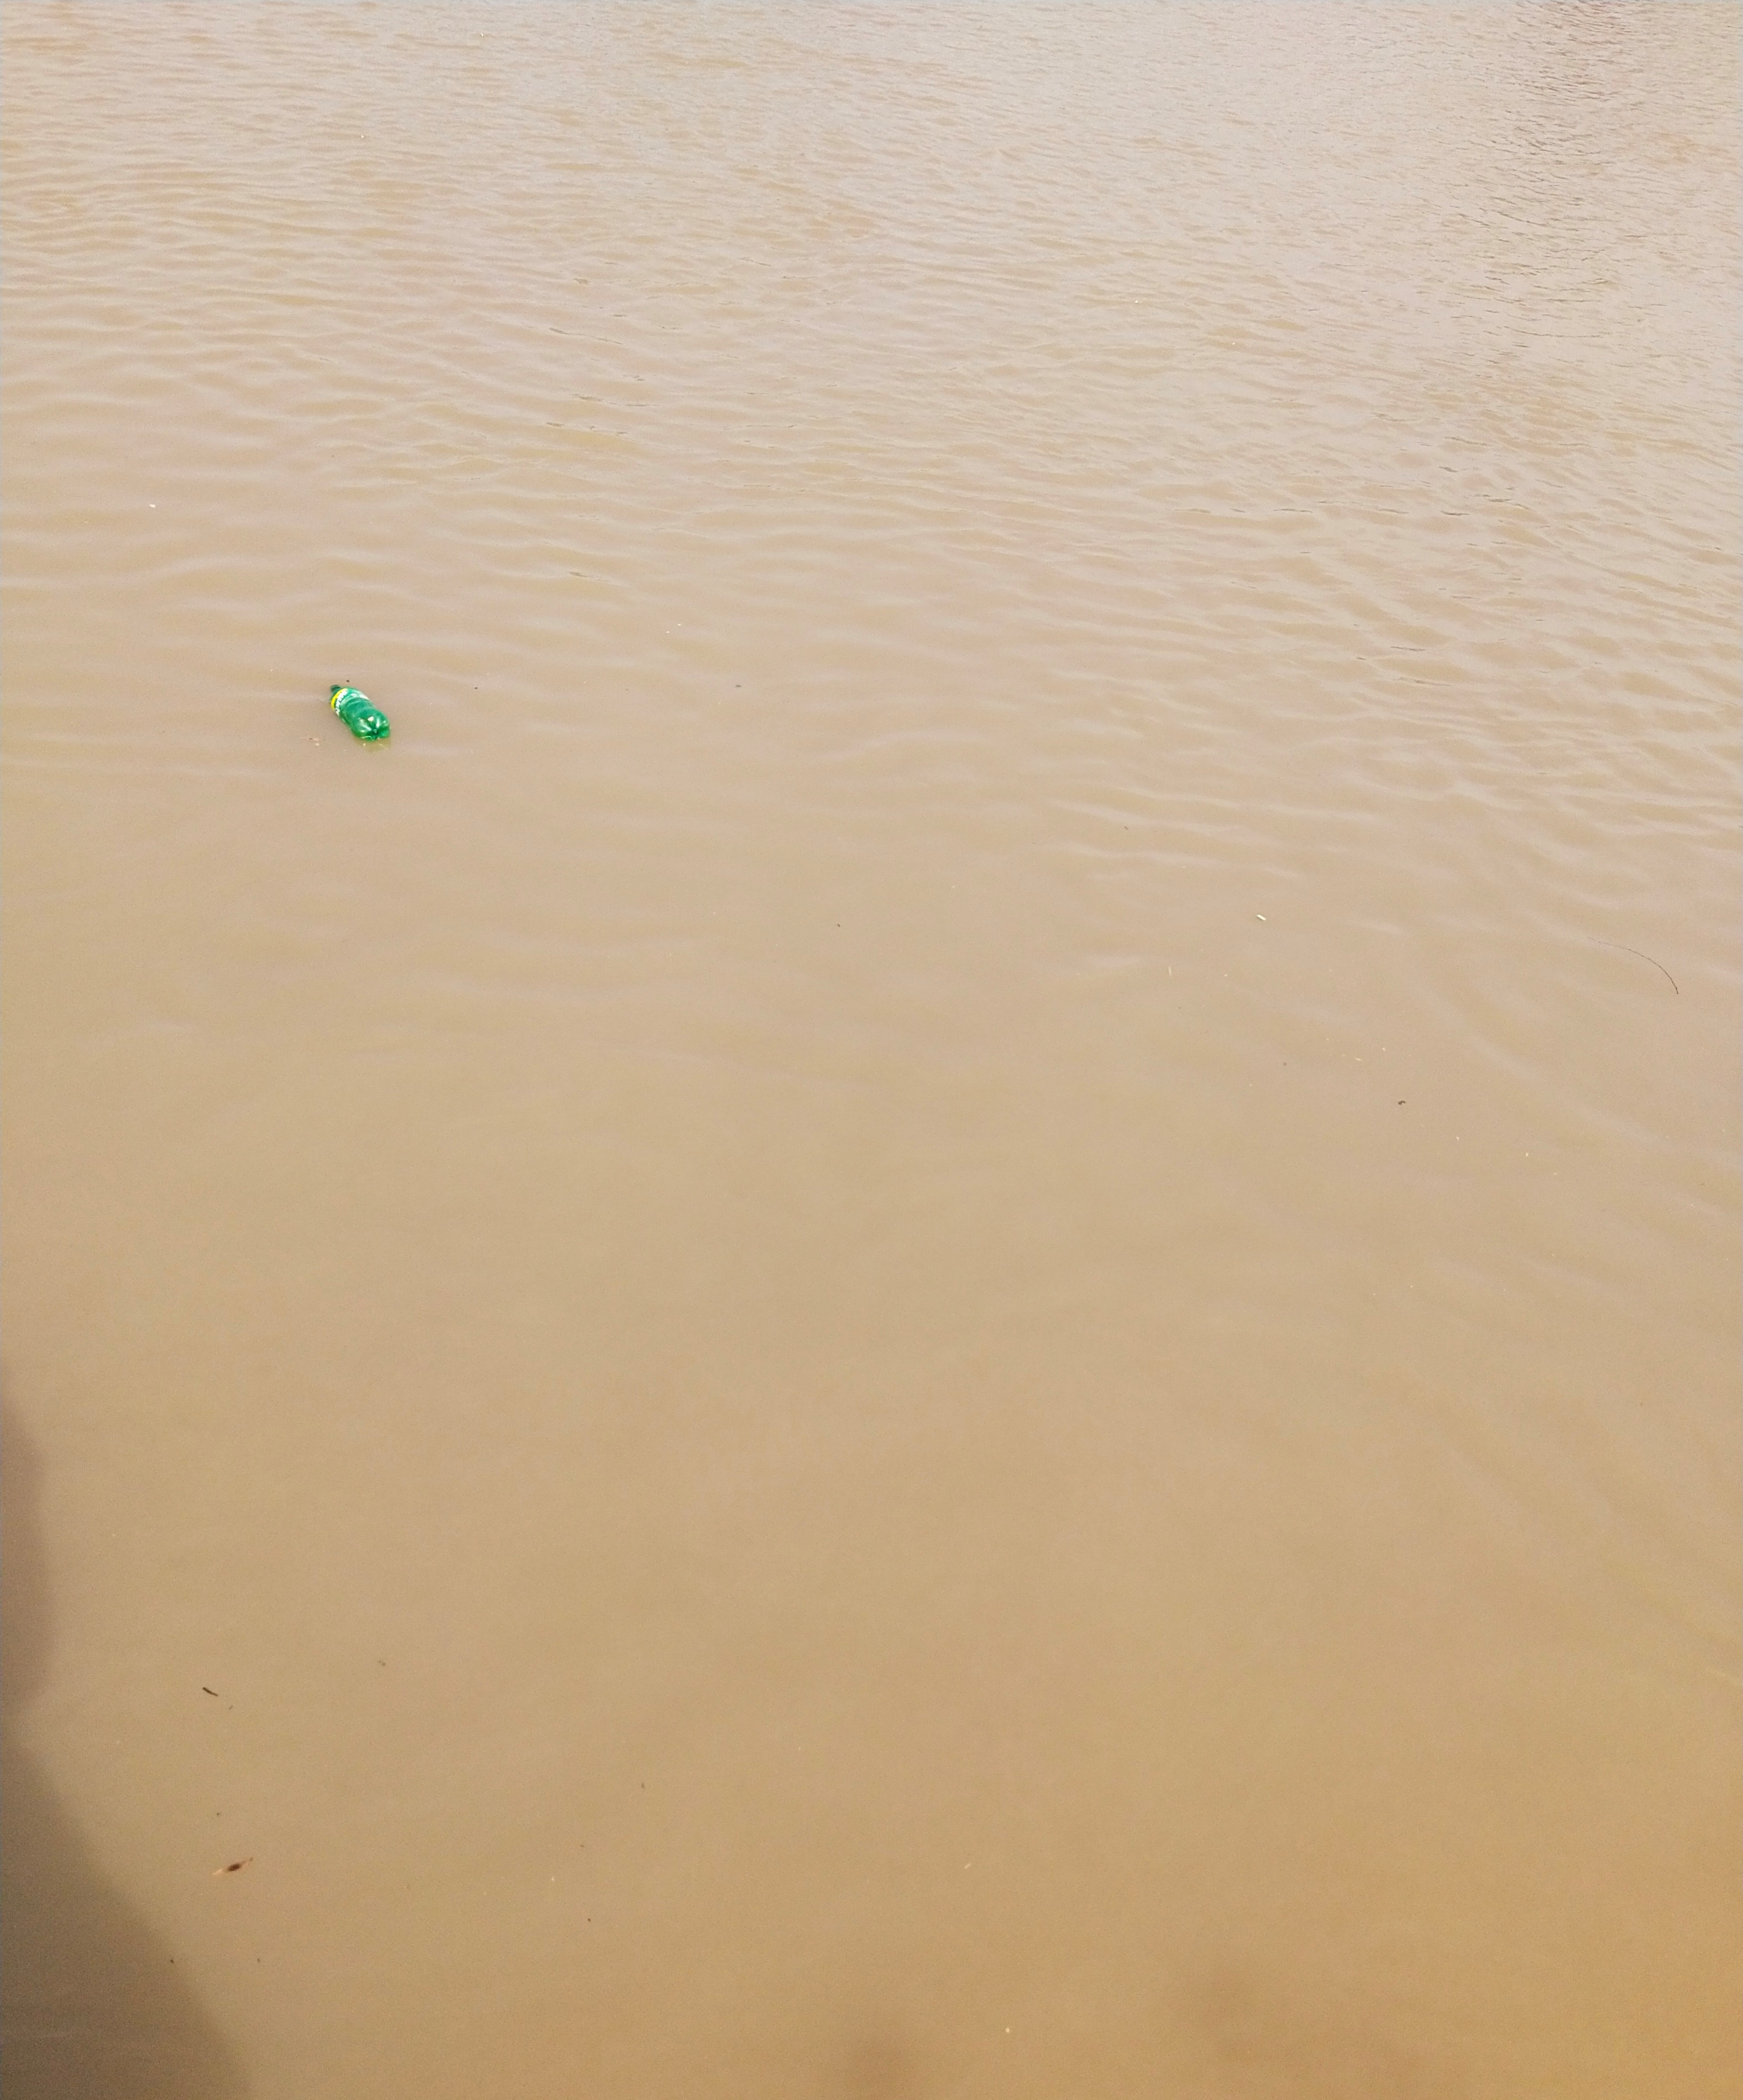Plastic Bottle: (328, 684, 389, 741)
